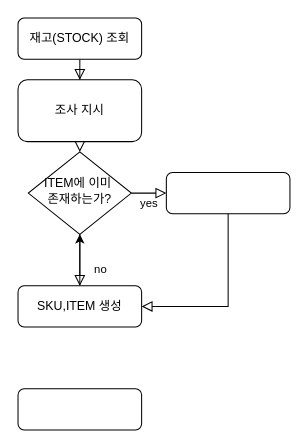
The diagram is 308 pixels wide and 448 high, and some of its shapes have lost their labels. Each missing label, with the box of its shape:
지시(check) 선택: (17, 388, 142, 430)
해당 SKU 삭제: (165, 171, 290, 214)
